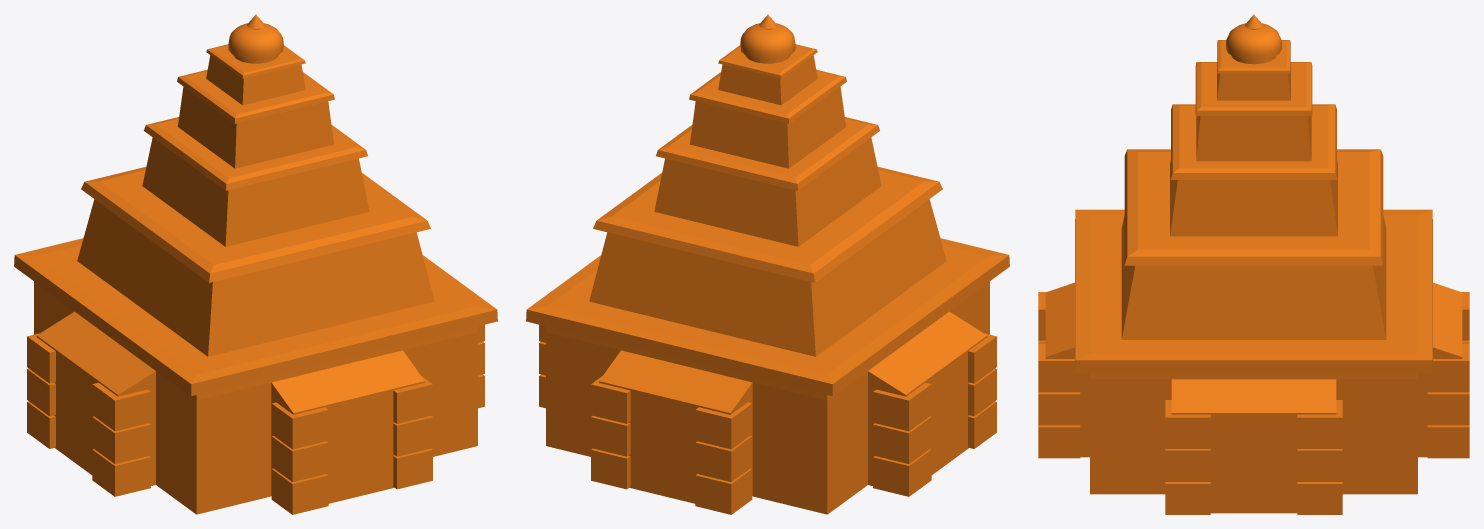
The model's file is hindu_temple.fbx.
3 renders of one model, left to right at view 1: azimuth 30°, elevation 25°; view 2: azimuth 150°, elevation 25°; view 3: azimuth 270°, elevation 25°, orthographic.
Visible parts, largest first — view 1: Cube.505; view 2: Cube.505; view 3: Cube.505.
Boxes of the visible parts, left/top/right/bottom form: Cube.505: left=14, top=14, right=497, bottom=514; Cube.505: left=526, top=14, right=1009, bottom=514; Cube.505: left=1038, top=14, right=1469, bottom=514.
Bounding box in the file's own units: 197 × 209 × 197.
Materials: 1 (1 with a texture image).
